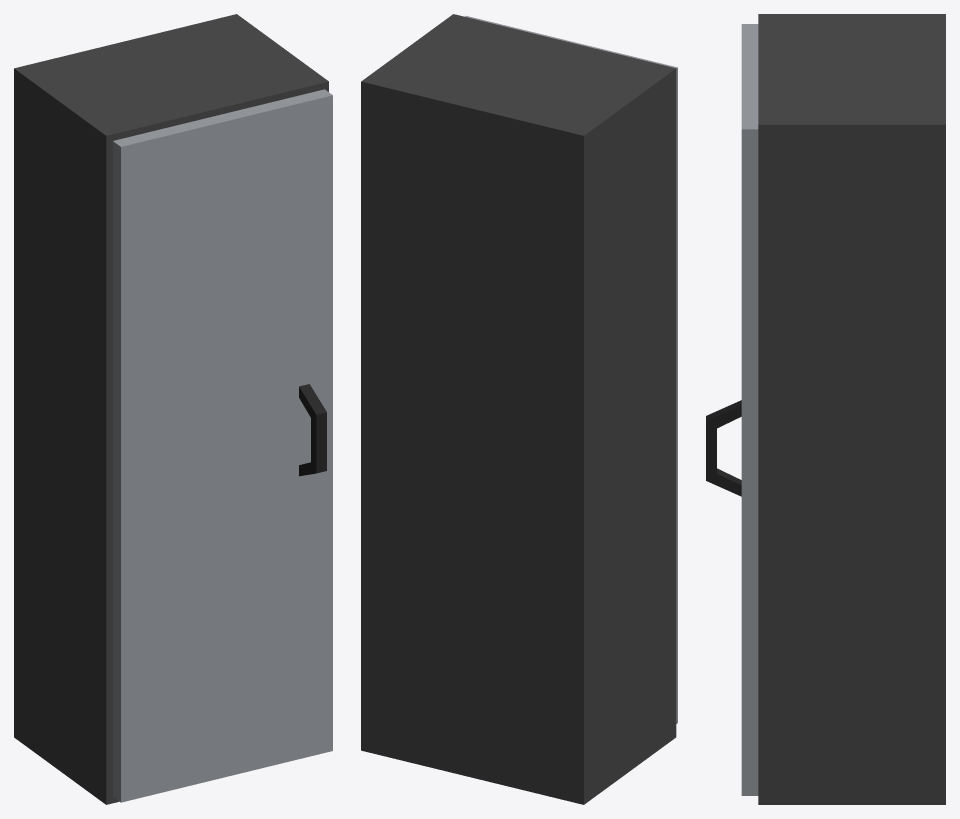
File: WardRobe_4C.fbx
The picture shows the model from 3 angles, left to right: view 1: azimuth 30°, elevation 25°; view 2: azimuth 150°, elevation 25°; view 3: azimuth 270°, elevation 25°; orthographic projection.
Visible parts, largest first — view 1: polySurface1831; view 2: polySurface1831; view 3: polySurface1831.
Boxes of the visible parts, x1,y1,x2,y2 form: polySurface1831: (14, 14, 332, 804); polySurface1831: (361, 14, 677, 804); polySurface1831: (706, 14, 945, 804).
Size of the model in its own units: 1.18 by 3.4 by 1.09.
1 material, 1 textured.
